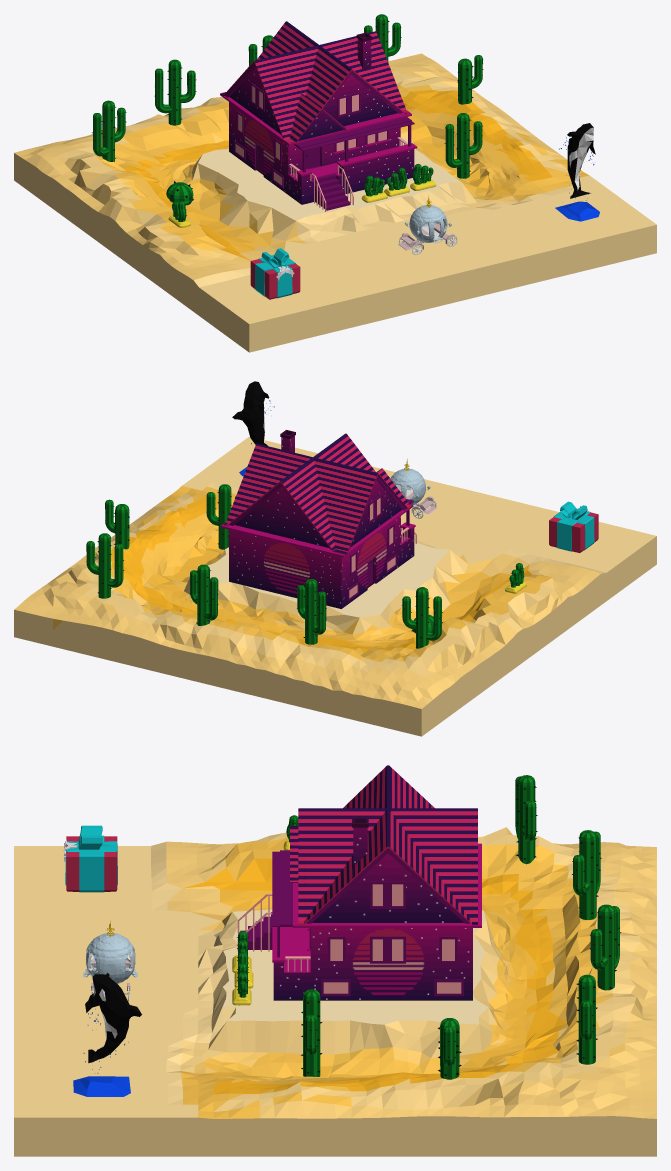
The picture shows the model from 3 angles, top to bottom: view 1: azimuth 30°, elevation 25°; view 2: azimuth 150°, elevation 25°; view 3: azimuth 270°, elevation 25°; orthographic projection. The views are drawn at different scales.
Visible parts, largest first — view 1: Cube.001, Cube.156, OBJRANDOM_GIANT_PRESENT, ANIMAL_ORCA, VEHICLES_FANTASY_CARRIAGE, Cylinder.044, Cylinder.037, Cylinder.045, Cylinder.038, Cylinder.042, Cylinder.039, Cylinder.041 (+2 smaller); view 2: Cube.001, Cube.156, OBJRANDOM_GIANT_PRESENT, Cylinder.042, Cylinder.045, Cylinder.044, Cylinder.043, ANIMAL_ORCA, VEHICLES_FANTASY_CARRIAGE, Cylinder.037, Cylinder.038; view 3: Cube.001, Cube.156, ANIMAL_ORCA, OBJRANDOM_GIANT_PRESENT, VEHICLES_FANTASY_CARRIAGE, Cylinder.043, Cylinder.044, Cylinder.045, Cylinder.042, Cylinder.037, Cylinder.038, Cylinder.041.
Part boxes in pixels (x1,y1,x2,y2): Cube.001: (14,53,656,352); Cube.156: (220,21,417,211); OBJRANDOM_GIANT_PRESENT: (250,248,300,299); ANIMAL_ORCA: (555,123,599,221); VEHICLES_FANTASY_CARRIAGE: (398,195,457,255); Cylinder.044: (154,59,196,125); Cylinder.037: (444,113,482,178); Cylinder.045: (92,100,126,161); Cylinder.038: (457,55,483,104); Cylinder.042: (364,14,401,62); Cylinder.039: (361,175,387,202); Cylinder.041: (410,164,436,190); Cube.001: (14,436,656,736); Cube.156: (221,430,416,608); OBJRANDOM_GIANT_PRESENT: (549,501,598,552); Cylinder.042: (86,533,123,598); Cylinder.045: (402,587,442,648); Cylinder.044: (297,579,326,644); Cylinder.043: (190,564,218,625); ANIMAL_ORCA: (232,381,274,476); VEHICLES_FANTASY_CARRIAGE: (390,459,436,518); Cylinder.037: (206,484,235,549); Cylinder.038: (105,499,129,549); Cube.001: (14,827,656,1156); Cube.156: (237,765,481,1000); ANIMAL_ORCA: (73,973,141,1096); OBJRANDOM_GIANT_PRESENT: (63,825,117,892); VEHICLES_FANTASY_CARRIAGE: (83,921,137,1001); Cylinder.043: (589,904,620,990); Cylinder.044: (572,830,601,919); Cylinder.045: (515,775,537,864); Cylinder.042: (576,974,597,1064); Cylinder.037: (301,989,322,1076); Cylinder.038: (438,1018,461,1079); Cylinder.041: (232,963,251,1005).
Bounding box in the file's own units: 4002 × 1600 × 4001.
Materials: 25 (4 with a texture image).
